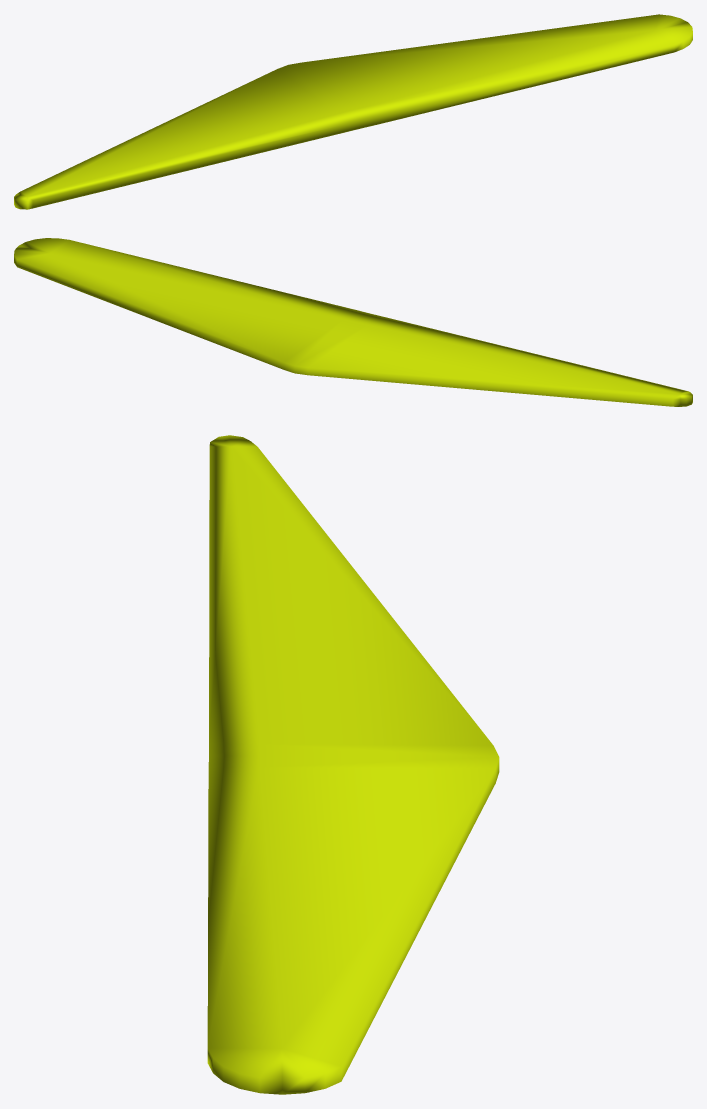
The model's file is Board_Form_18.fbx.
3 views of the same model, one above another, from view 1: azimuth 30°, elevation 25°; view 2: azimuth 150°, elevation 25°; view 3: azimuth 270°, elevation 25° (orthographic). The views are drawn at different scales.
Parts seen in each view (by area): view 1: Board_Form_18; view 2: Board_Form_18; view 3: Board_Form_18.
Part boxes in pixels (<box>): Board_Form_18: <box>14,14,692,209</box>; Board_Form_18: <box>14,238,692,406</box>; Board_Form_18: <box>207,435,499,1094</box>.
Bounding box in the file's own units: 27.77 × 0.3097 × 5.31.
